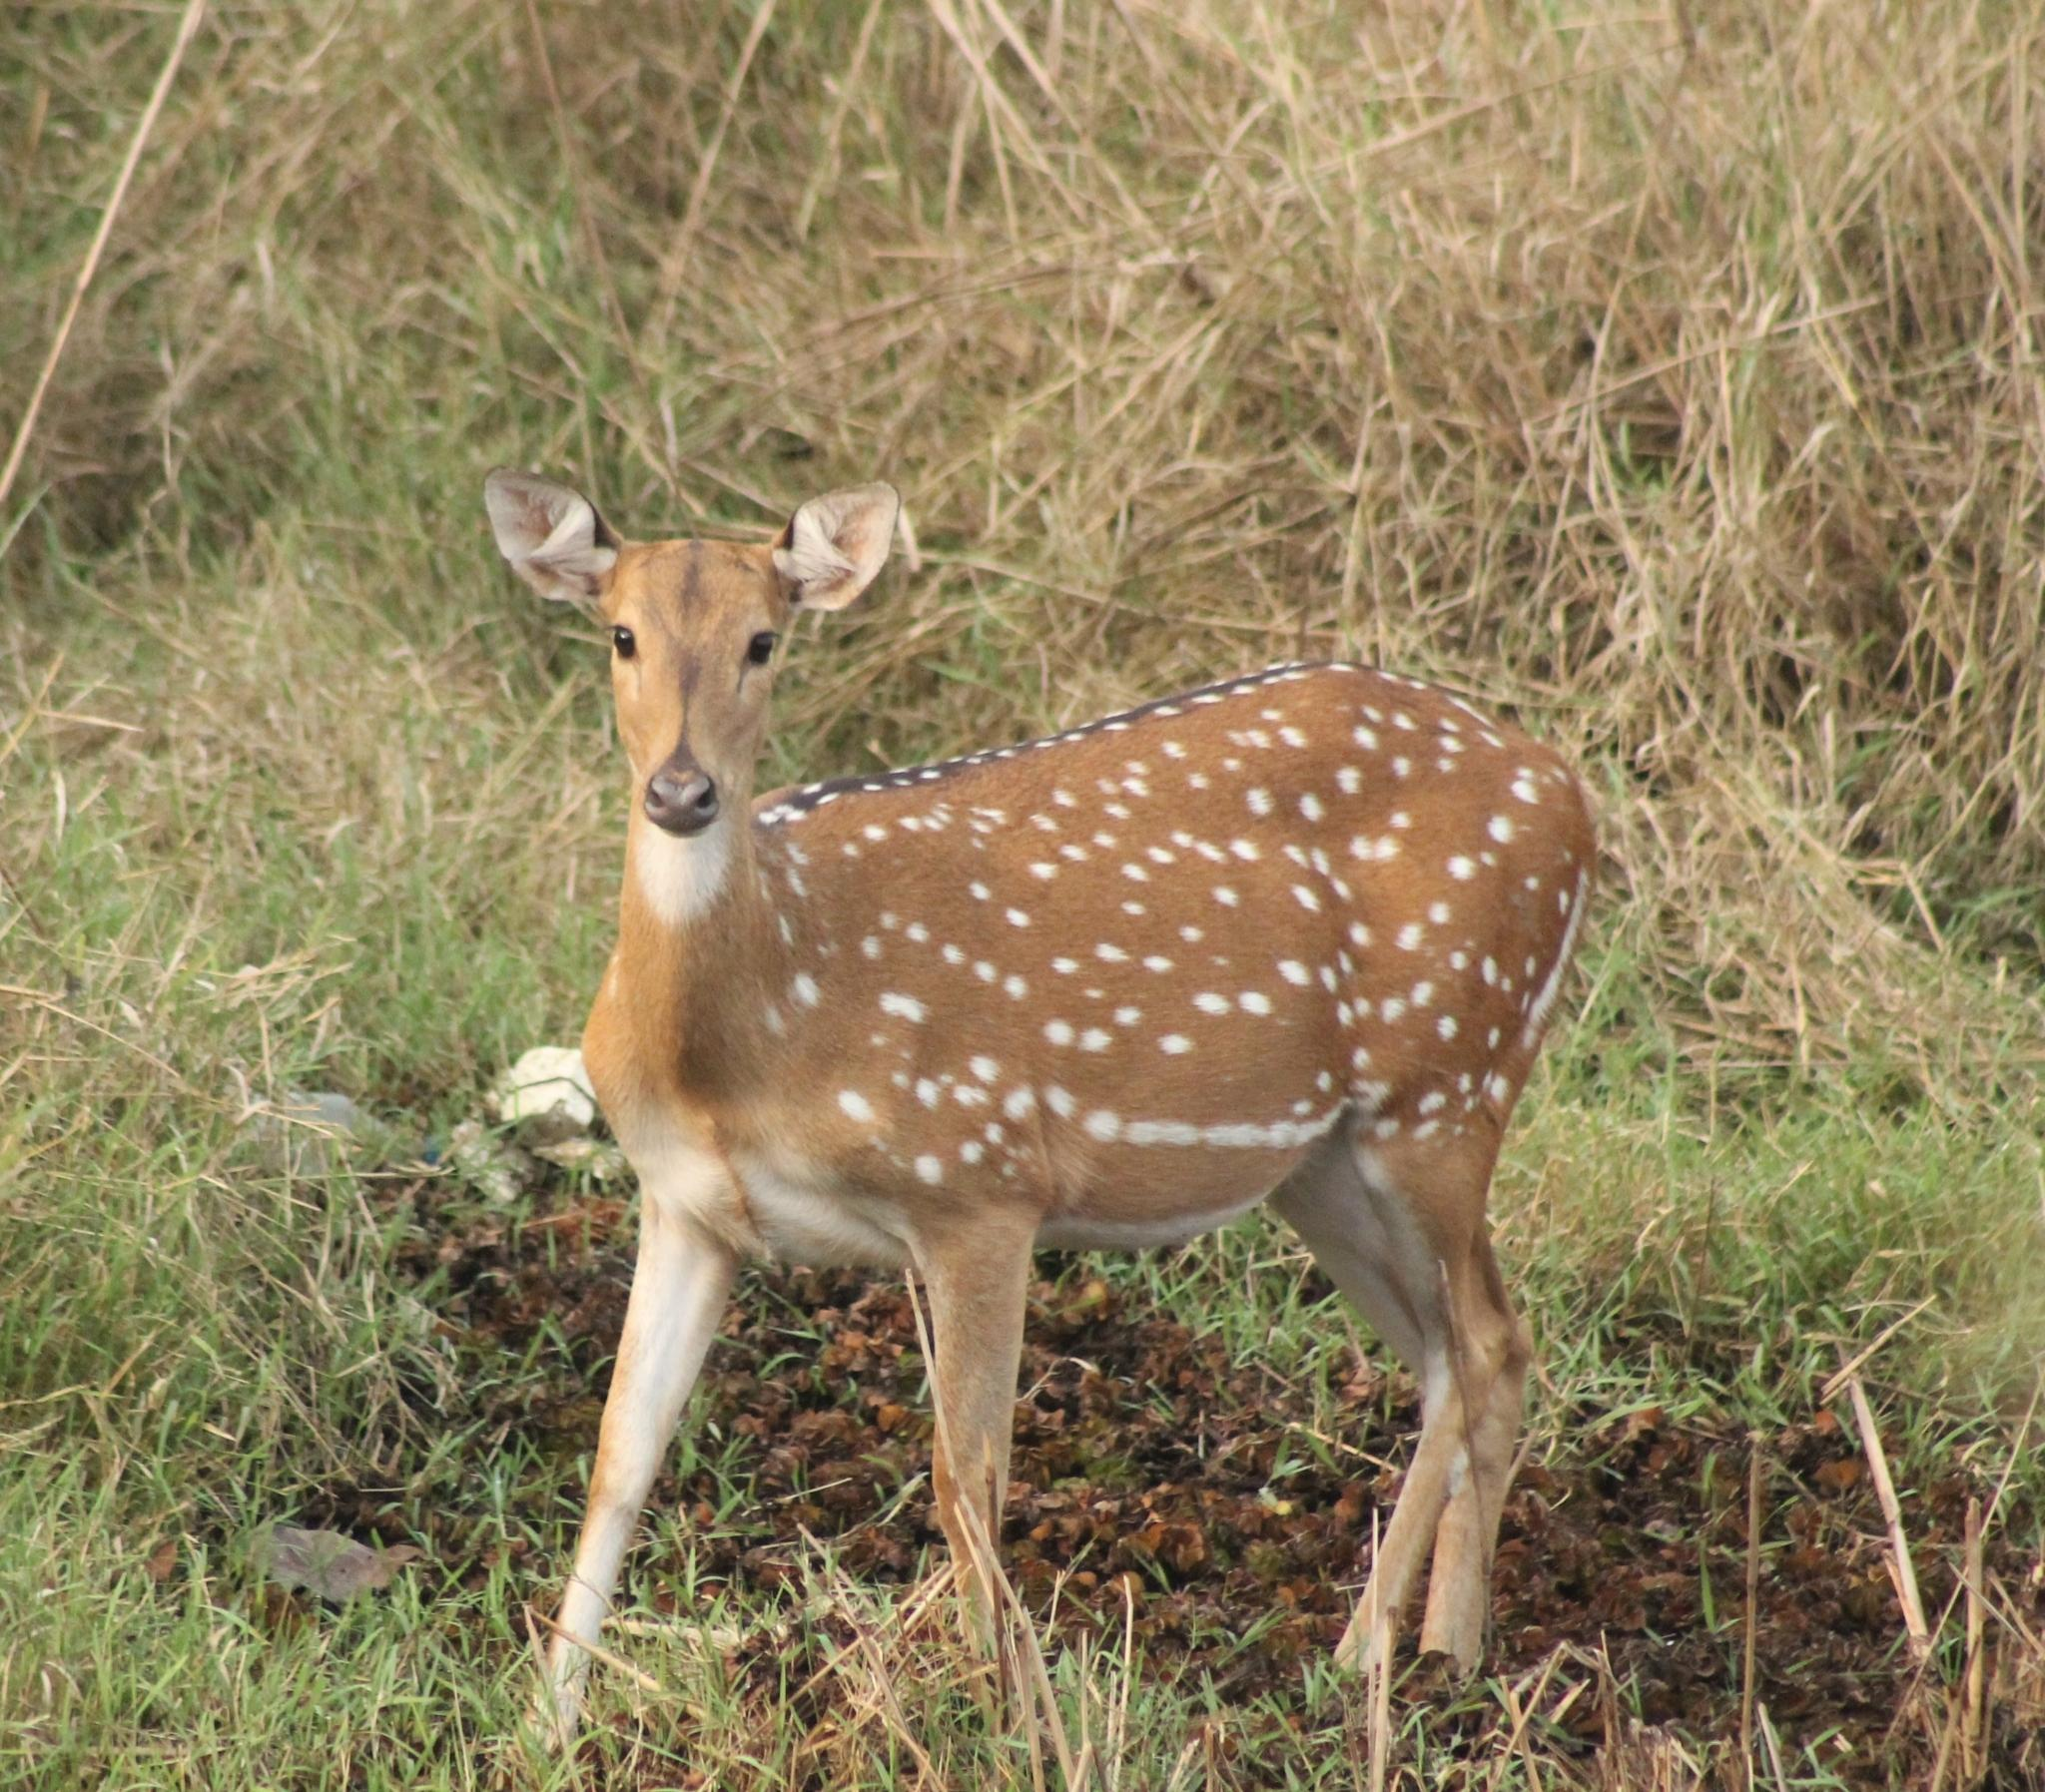Deer: (485, 471, 1596, 1733)
